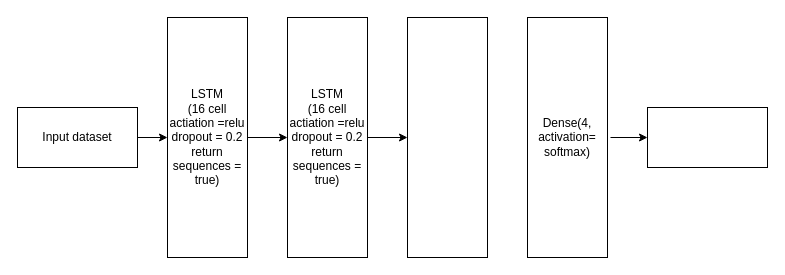
This 785x275 diagram has some shape labels left out. The shapes that lost their labels are listed below. From the top down, each one's centre as x and y in pixels, then its label:
the point at 447,137: Dense(10, activation = relu dropout = 0.2)
the point at 707,137: Model
